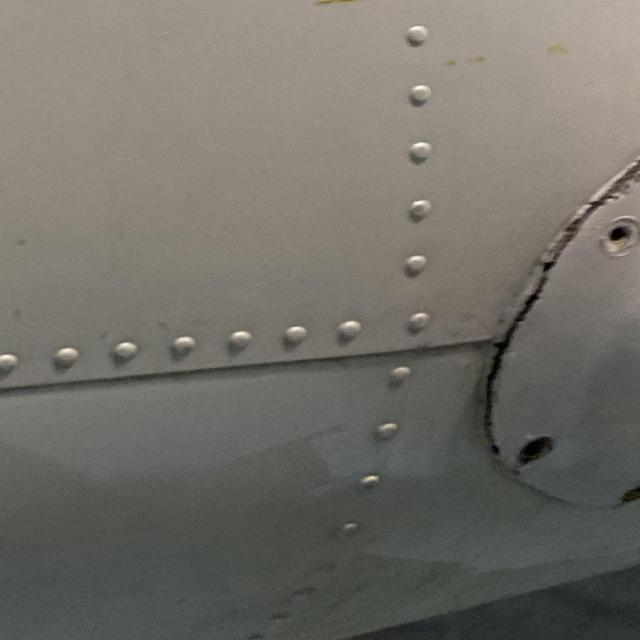Crack: (476, 154, 640, 473)
Missing-head: (604, 220, 640, 257), (517, 433, 557, 465)
